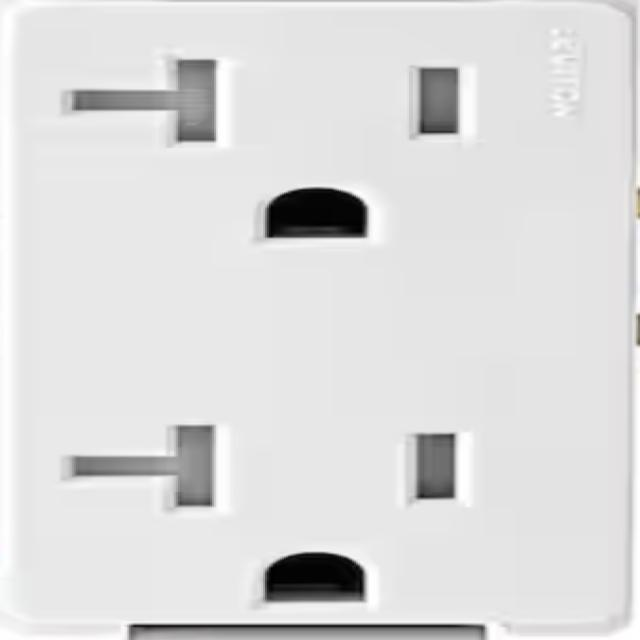type_b_tc: (11, 14, 570, 623), (11, 14, 578, 282), (8, 384, 574, 624)
